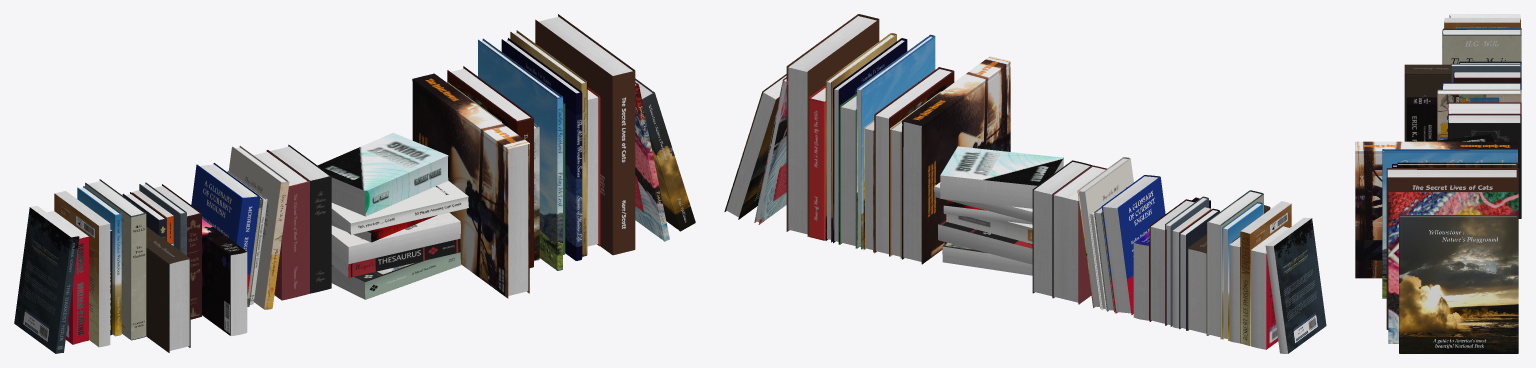
3 views of the same model, side by side, from view 1: azimuth 30°, elevation 25°; view 2: azimuth 150°, elevation 25°; view 3: azimuth 270°, elevation 25° (orthographic). The views are drawn at different scales.
Parts seen in each view (by area): view 1: EvB1Lbooks1.Shape, EvB1Lbooks2.Shape, EvB1_Hbacks1.Shape, EvB1_Pbacks2.Shape, EvB1_Pbacks1.Shape, EvB1_Hbacks2.Shape; view 2: EvB1Lbooks1.Shape, EvB1Lbooks2.Shape, EvB1_Pbacks1.Shape, EvB1_Hbacks1.Shape, EvB1_Hbacks2.Shape, EvB1_Pbacks2.Shape; view 3: EvB1Lbooks2.Shape, EvB1Lbooks1.Shape, EvB1_Hbacks1.Shape, EvB1_Hbacks2.Shape, EvB1_Pbacks1.Shape, EvB1_Pbacks2.Shape.
Boxes of the visible parts, x1,y1,x2,y2 form: EvB1Lbooks1.Shape: [412, 30, 600, 298]; EvB1Lbooks2.Shape: [447, 14, 695, 267]; EvB1_Hbacks1.Shape: [85, 146, 309, 352]; EvB1_Pbacks2.Shape: [318, 132, 468, 299]; EvB1_Pbacks1.Shape: [14, 190, 247, 353]; EvB1_Hbacks2.Shape: [77, 144, 331, 336]; EvB1Lbooks1.Shape: [809, 33, 1010, 264]; EvB1Lbooks2.Shape: [724, 14, 954, 256]; EvB1_Pbacks1.Shape: [1133, 197, 1326, 353]; EvB1_Hbacks1.Shape: [1053, 157, 1270, 338]; EvB1_Hbacks2.Shape: [1032, 160, 1263, 340]; EvB1_Pbacks2.Shape: [934, 146, 1063, 275]; EvB1Lbooks2.Shape: [1386, 156, 1518, 353]; EvB1Lbooks1.Shape: [1355, 141, 1517, 298]; EvB1_Hbacks1.Shape: [1404, 28, 1521, 141]; EvB1_Hbacks2.Shape: [1442, 28, 1521, 218]; EvB1_Pbacks1.Shape: [1406, 14, 1520, 141]; EvB1_Pbacks2.Shape: [1430, 134, 1494, 141].
Bounding box in the file's own units: 1.11 × 0.3102 × 0.3066.
Materials: 18 (18 with a texture image).
